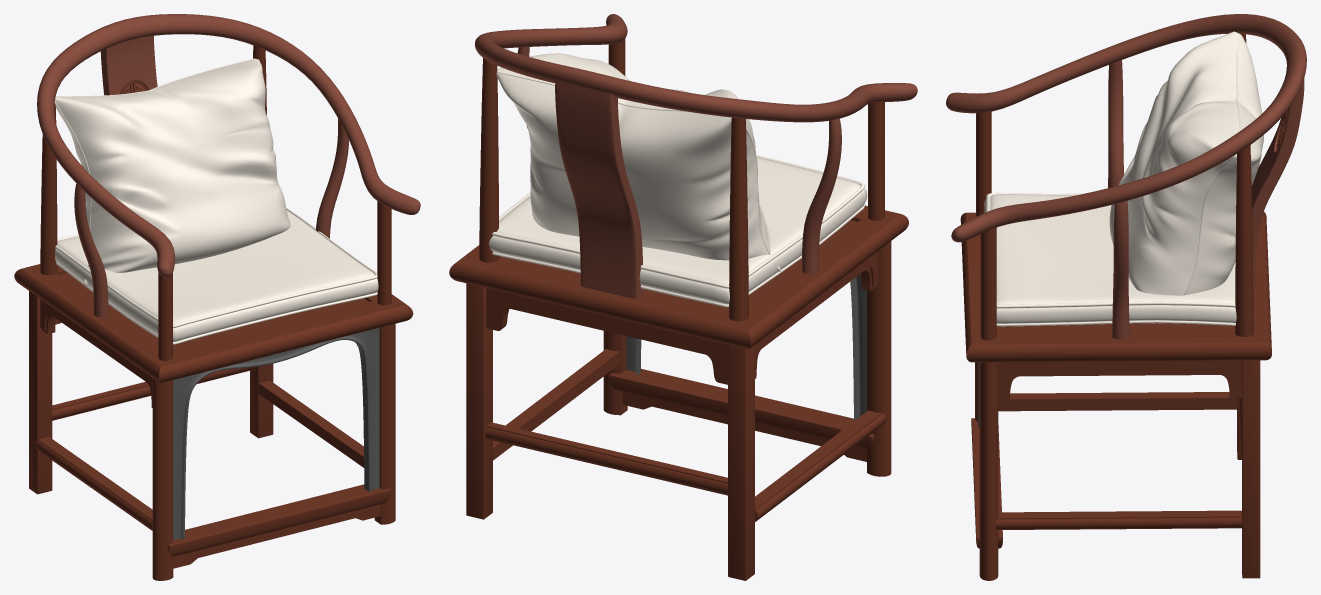
File: yizi.fbx
The picture shows the model from 3 angles, left to right: view 1: azimuth 30°, elevation 25°; view 2: azimuth 150°, elevation 25°; view 3: azimuth 270°, elevation 25°; orthographic projection. The views are drawn at different scales.
Parts seen in each view (by area): view 1: polySurface281; view 2: polySurface281; view 3: polySurface281.
Part boxes in pixels (x1,y1,x2,y2): polySurface281: (14, 14, 420, 580); polySurface281: (449, 14, 917, 580); polySurface281: (946, 14, 1306, 580).
Bounding box in the file's own units: 2.97 × 4.29 × 3.03.
